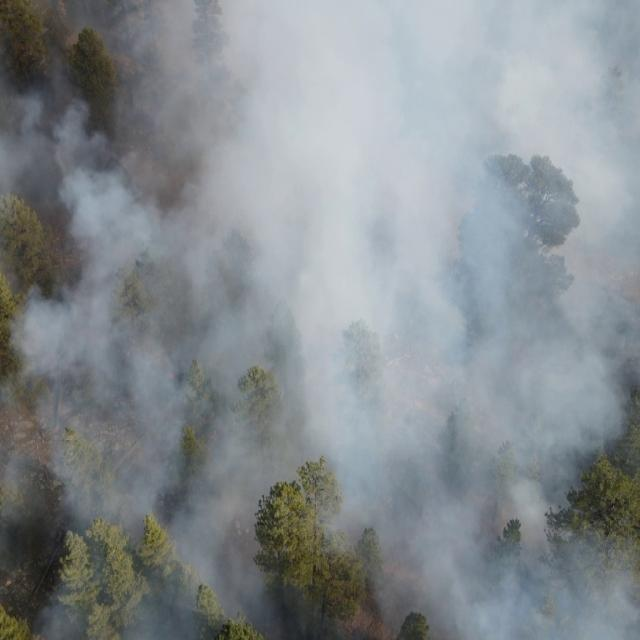smoke: (358, 6, 640, 640), (2, 295, 357, 523), (122, 4, 359, 292), (1, 525, 263, 640), (46, 72, 124, 296), (1, 77, 46, 209), (264, 586, 354, 640), (326, 524, 358, 560)
